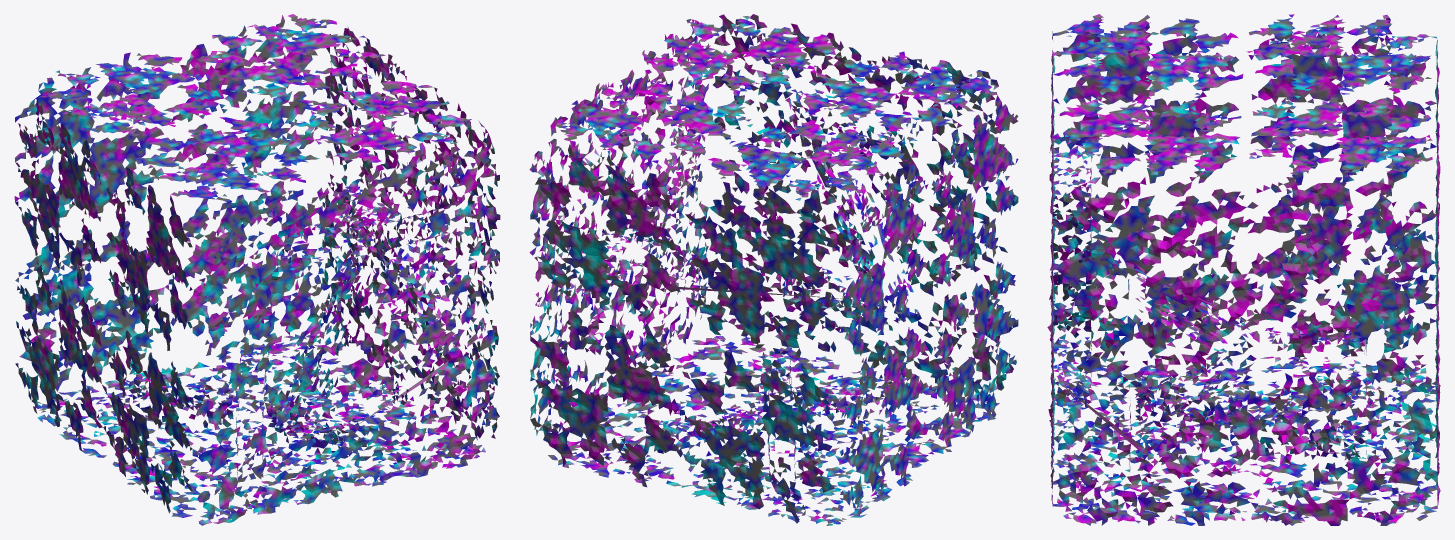
3 renders of one model, left to right at view 1: azimuth 30°, elevation 25°; view 2: azimuth 150°, elevation 25°; view 3: azimuth 270°, elevation 25°, orthographic. The views are drawn at different scales.
Size of the model in its own units: 1.17 by 1.14 by 1.14.
